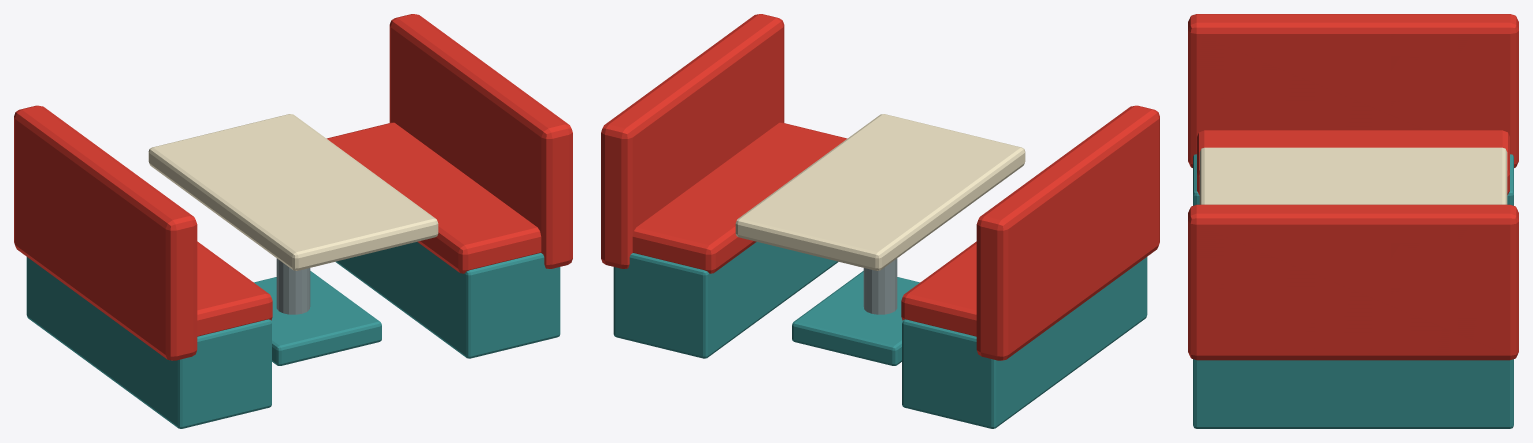
Rendered from S045_diner_booth.glb.
3 renders of one model, left to right at view 1: azimuth 30°, elevation 25°; view 2: azimuth 150°, elevation 25°; view 3: azimuth 270°, elevation 25°, orthographic. The views are drawn at different scales.
Parts seen in each view (by area): view 1: booth_back, diner_tabletop, booth_back.001, booth_base, booth_base.001, booth_cushion.001, diner_table_foot, booth_cushion, diner_table_pedestal; view 2: booth_back, diner_tabletop, booth_back.001, booth_base, booth_base.001, booth_cushion.001, diner_table_foot, booth_cushion, diner_table_pedestal; view 3: booth_back.001, booth_back, booth_base.001, diner_tabletop, booth_cushion, booth_base.
Boxes of the visible parts, x1,y1,x2,y2 form: booth_back: (14, 105, 197, 360); diner_tabletop: (148, 114, 438, 270); booth_back.001: (389, 14, 572, 268); booth_base: (26, 257, 271, 428); booth_base.001: (335, 242, 560, 358); booth_cushion.001: (326, 122, 541, 273); diner_table_foot: (254, 271, 381, 365); booth_cushion: (197, 241, 272, 336); diner_table_pedestal: (276, 258, 310, 314); booth_back: (976, 105, 1159, 360); diner_tabletop: (735, 114, 1025, 270); booth_back.001: (601, 14, 784, 268); booth_base: (902, 257, 1147, 428); booth_base.001: (613, 242, 838, 358); booth_cushion.001: (632, 122, 847, 273); diner_table_foot: (792, 271, 919, 365); booth_cushion: (901, 241, 976, 336); diner_table_pedestal: (863, 258, 897, 314); booth_back.001: (1188, 204, 1518, 360); booth_back: (1188, 14, 1518, 167); booth_base.001: (1193, 359, 1513, 428); diner_tabletop: (1199, 147, 1507, 204); booth_cushion: (1197, 130, 1509, 195); booth_base: (1193, 154, 1513, 205).
Bounding box in the file's own units: 2.51 × 1.24 × 1.7.
